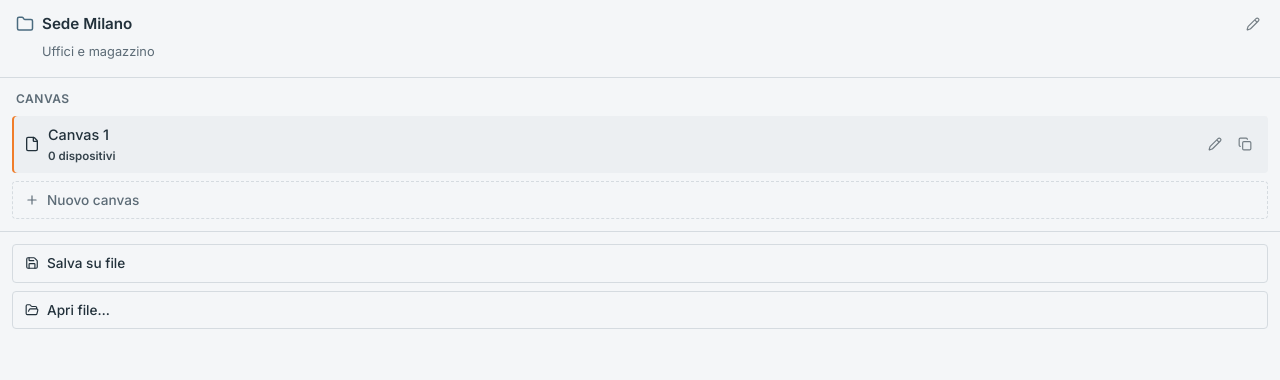
Test case: ExplorerPanel › project › edits the description in place, and offers to add one when there is none
The image size is (1280, 380).
Click the button "Uffici e magazzino": {"x": 98, "y": 51} [42, 42, 1264, 61]
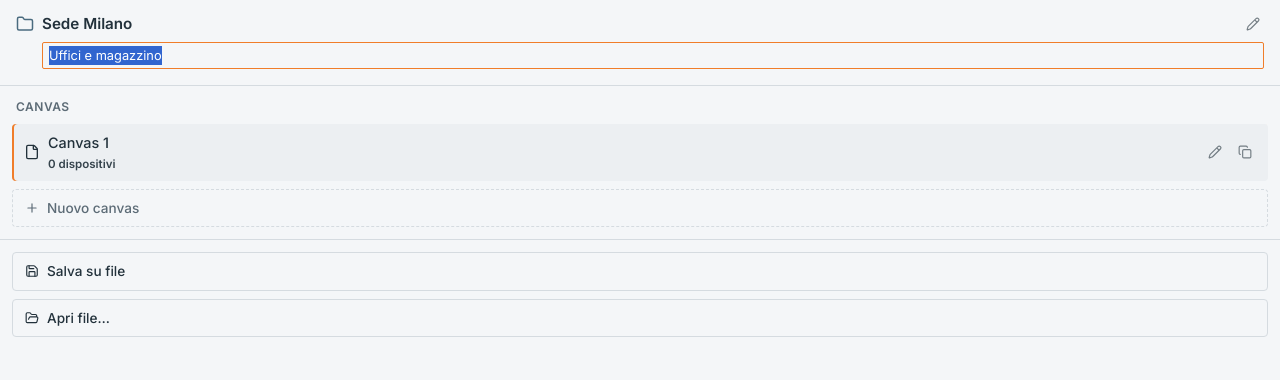
Clear the field named "Descrizione del progetto": {"x": 653, "y": 55} [42, 42, 1264, 69]
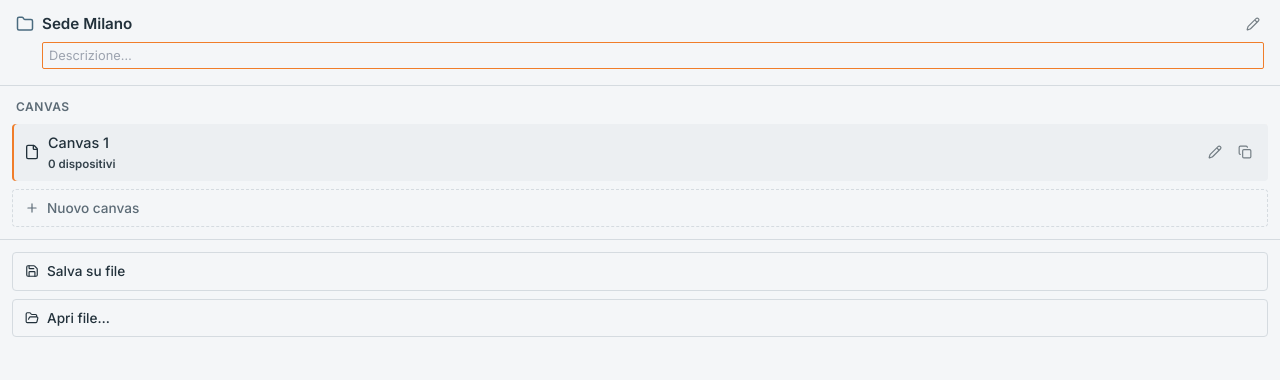
Press Enter in the field named "Descrizione del progetto", box [42, 42, 1264, 69]
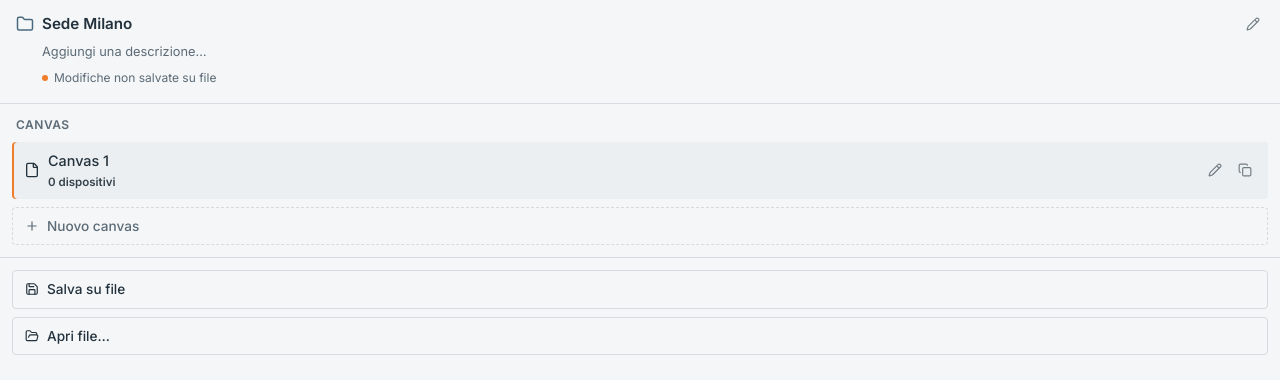
Click the button "Aggiungi una descrizione…": {"x": 124, "y": 51} [42, 42, 1264, 61]
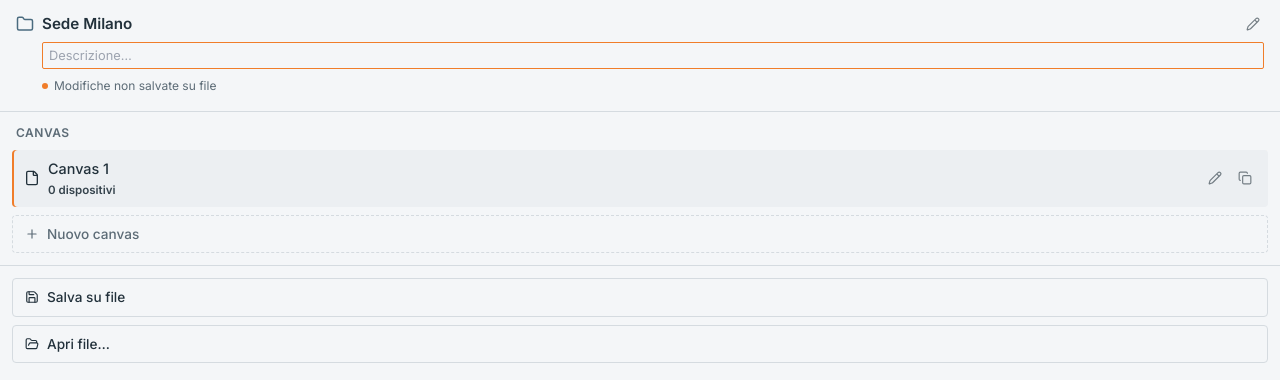
In the field named "Descrizione del progetto": {"x": 653, "y": 55} [42, 42, 1264, 69], type "Solo uffici"
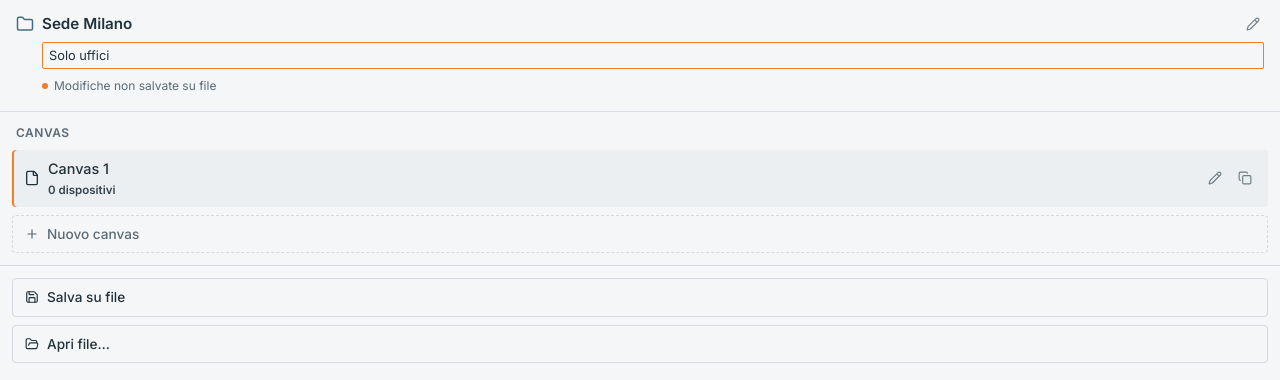
Leave the field named "Descrizione del progetto", box [42, 42, 1264, 69]
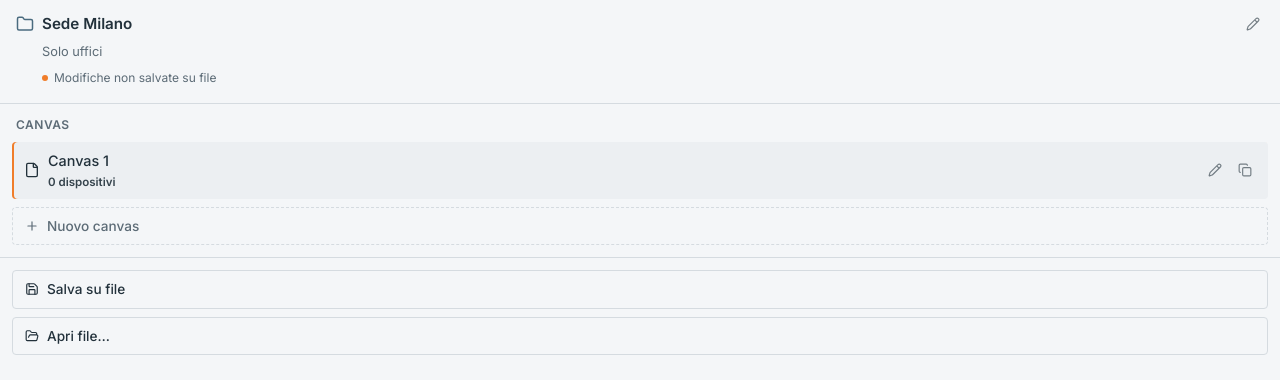
Now the button "Solo uffici" is shown, box [42, 42, 1264, 61]
